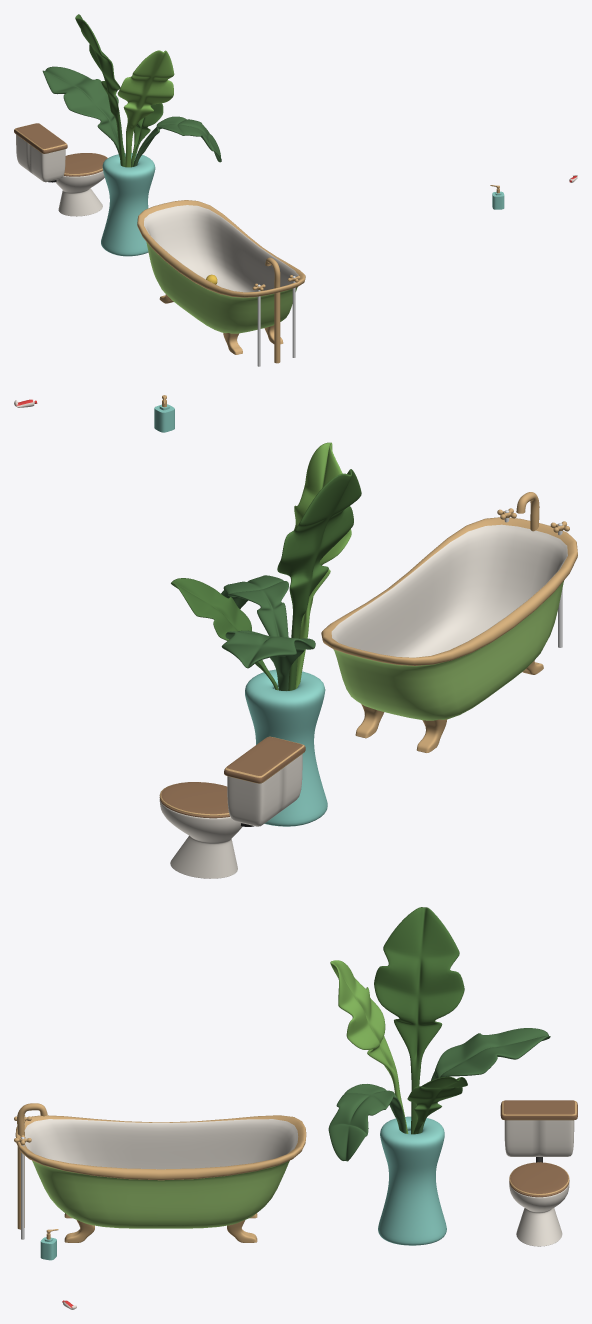
File: MainBathroomMovableObjects.fbx
The picture shows the model from 3 angles, top to bottom: view 1: azimuth 30°, elevation 25°; view 2: azimuth 150°, elevation 25°; view 3: azimuth 270°, elevation 25°; orthographic projection. The views are drawn at different scales.
Parts seen in each view (by area): view 1: Bathroom_Tub.001, Bathroom_Plant.001, Bathroom_ToiletBase.001; view 2: Bathroom_Tub.001, Bathroom_Plant.001, Bathroom_ToiletBase.001; view 3: Bathroom_Tub.001, Bathroom_Plant.001, Bathroom_ToiletBase.001.
Boxes of the visible parts, box(x1,y1,x2,y2) form: Bathroom_Tub.001: box(137, 200, 305, 366); Bathroom_Plant.001: box(42, 14, 221, 256); Bathroom_ToiletBase.001: box(14, 123, 107, 216); Bathroom_Tub.001: box(321, 492, 577, 752); Bathroom_Plant.001: box(171, 442, 361, 826); Bathroom_ToiletBase.001: box(159, 736, 305, 878); Bathroom_Tub.001: box(14, 1103, 306, 1242); Bathroom_Plant.001: box(328, 907, 550, 1245); Bathroom_ToiletBase.001: box(500, 1100, 577, 1246).
Size of the model in its own units: 337 by 210 by 362.
